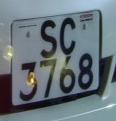3: (19, 56, 40, 106)
6: (58, 53, 77, 98)
7: (38, 58, 60, 100)
8: (77, 49, 96, 96)
C: (57, 15, 79, 59)
S: (34, 18, 61, 59)
